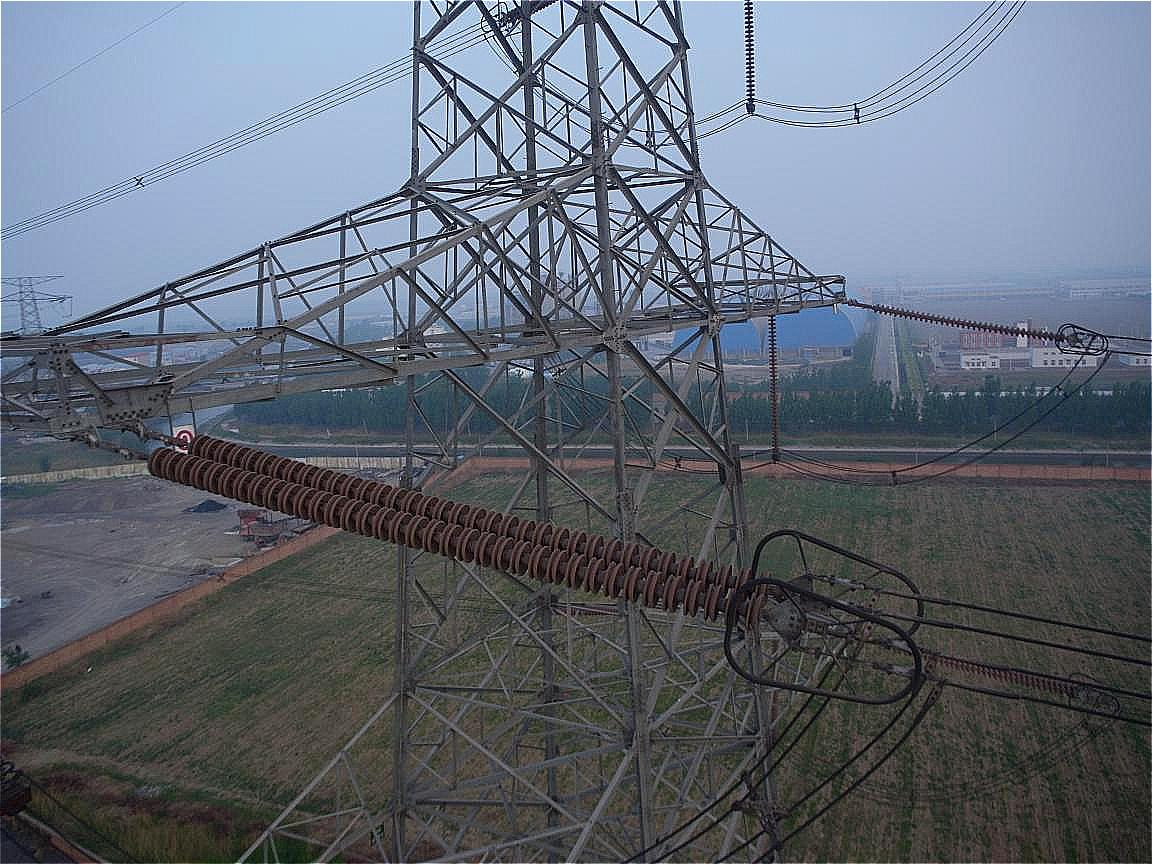insultor1: (874, 303, 1067, 347)
insultor2: (149, 431, 772, 632)
